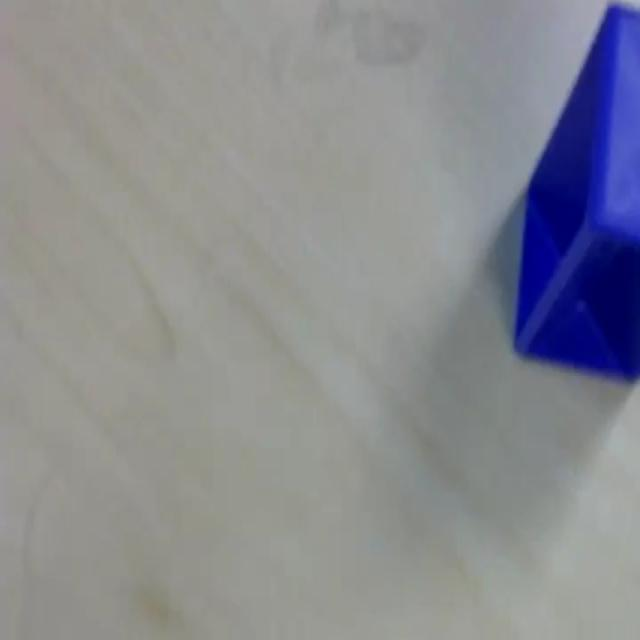blue_block: (512, 1, 638, 382)
